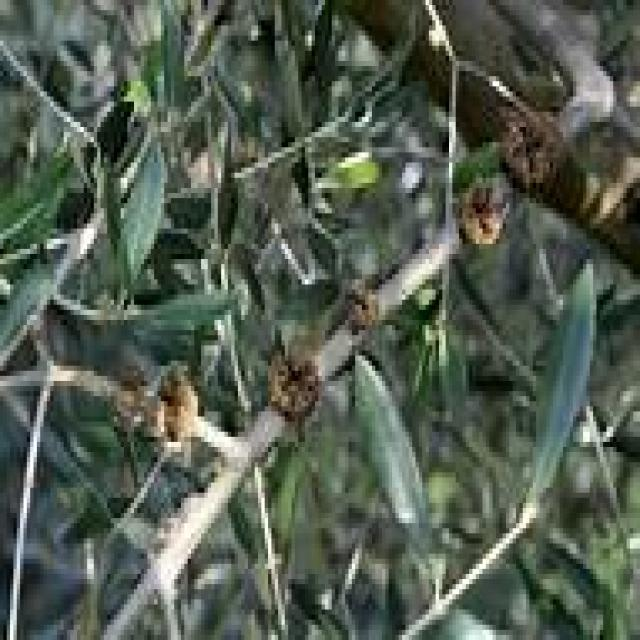Tuberculosis: (107, 361, 198, 447), (499, 107, 560, 188), (268, 340, 318, 422), (459, 175, 512, 239), (343, 284, 382, 345)
